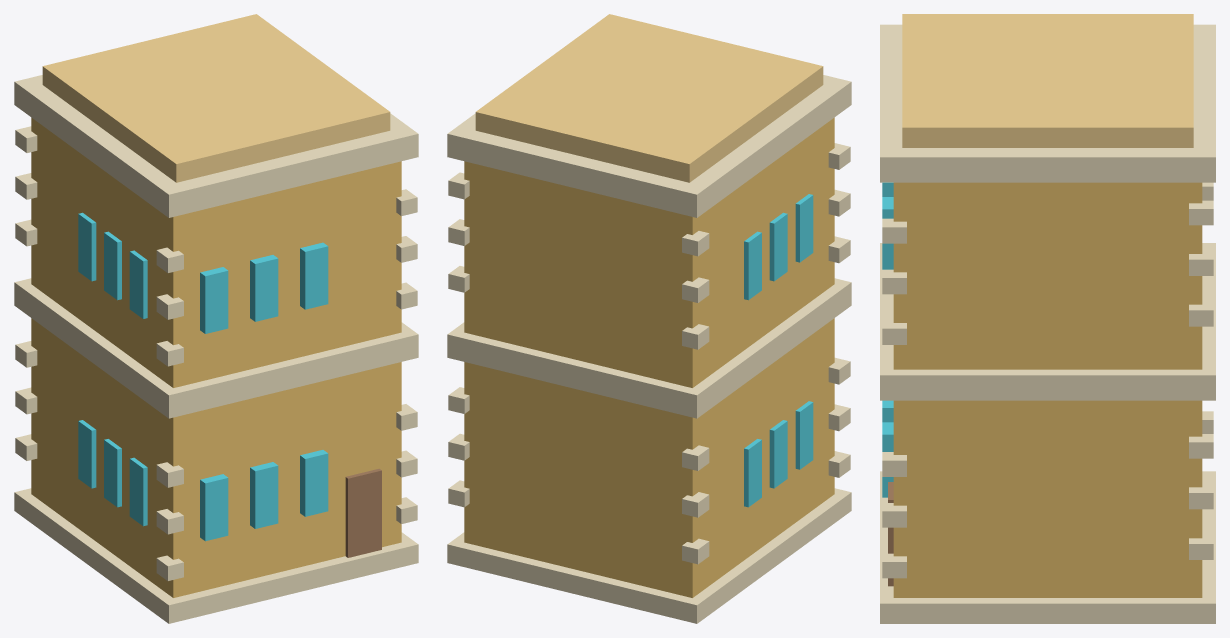
File: House02.fbx
3 views of the same model, side by side, from view 1: azimuth 30°, elevation 25°; view 2: azimuth 150°, elevation 25°; view 3: azimuth 270°, elevation 25° (orthographic). The views are drawn at different scales.
Visible parts, largest first — view 1: House02; view 2: House02; view 3: House02.
Boxes of the visible parts, x1,y1,x2,y2 form: House02: (14, 14, 418, 623); House02: (447, 14, 851, 623); House02: (880, 14, 1215, 623).
Size of the model in its own units: 717 by 1229 by 768.
